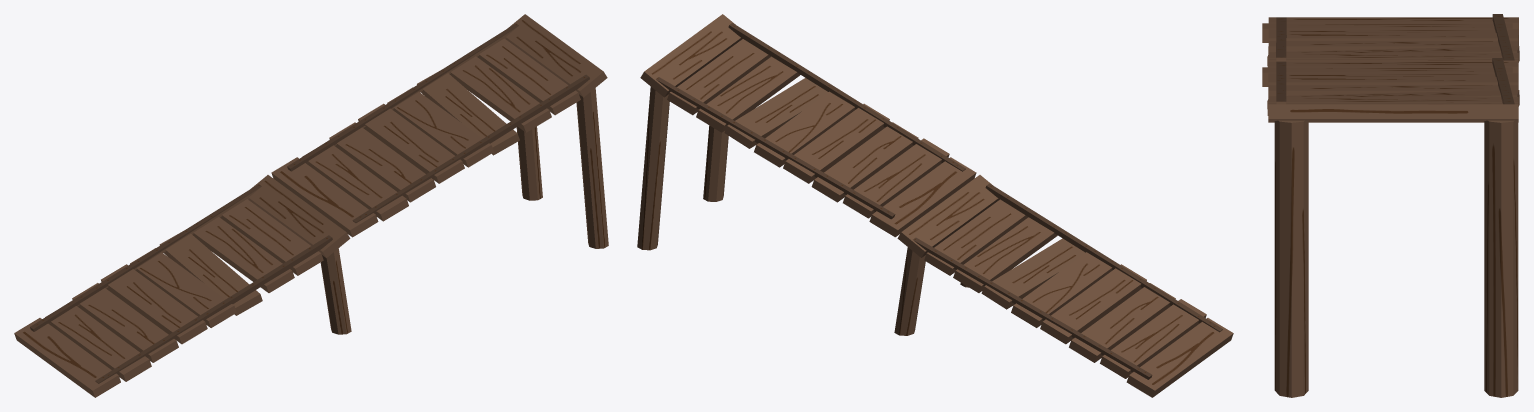
File: PT_ramp_003.FBX
3 views of the same model, side by side, from view 1: azimuth 30°, elevation 25°; view 2: azimuth 150°, elevation 25°; view 3: azimuth 270°, elevation 25° (orthographic). The views are drawn at different scales.
Parts seen in each view (by area): view 1: Box160, Box158; view 2: Box160, Box158; view 3: Box160, Box158.
Part boxes in pixels (x1=…): Box160: x1=271, y1=14, x2=608, y2=248; Box158: x1=14, y1=175, x2=351, y2=397; Box160: x1=637, y1=14, x2=976, y2=250; Box158: x1=894, y1=175, x2=1233, y2=397; Box160: x1=1262, y1=58, x2=1519, y2=397; Box158: x1=1262, y1=14, x2=1519, y2=66.
Size of the model in its own units: 105 by 38.99 by 28.27.
1 material, 1 textured.
